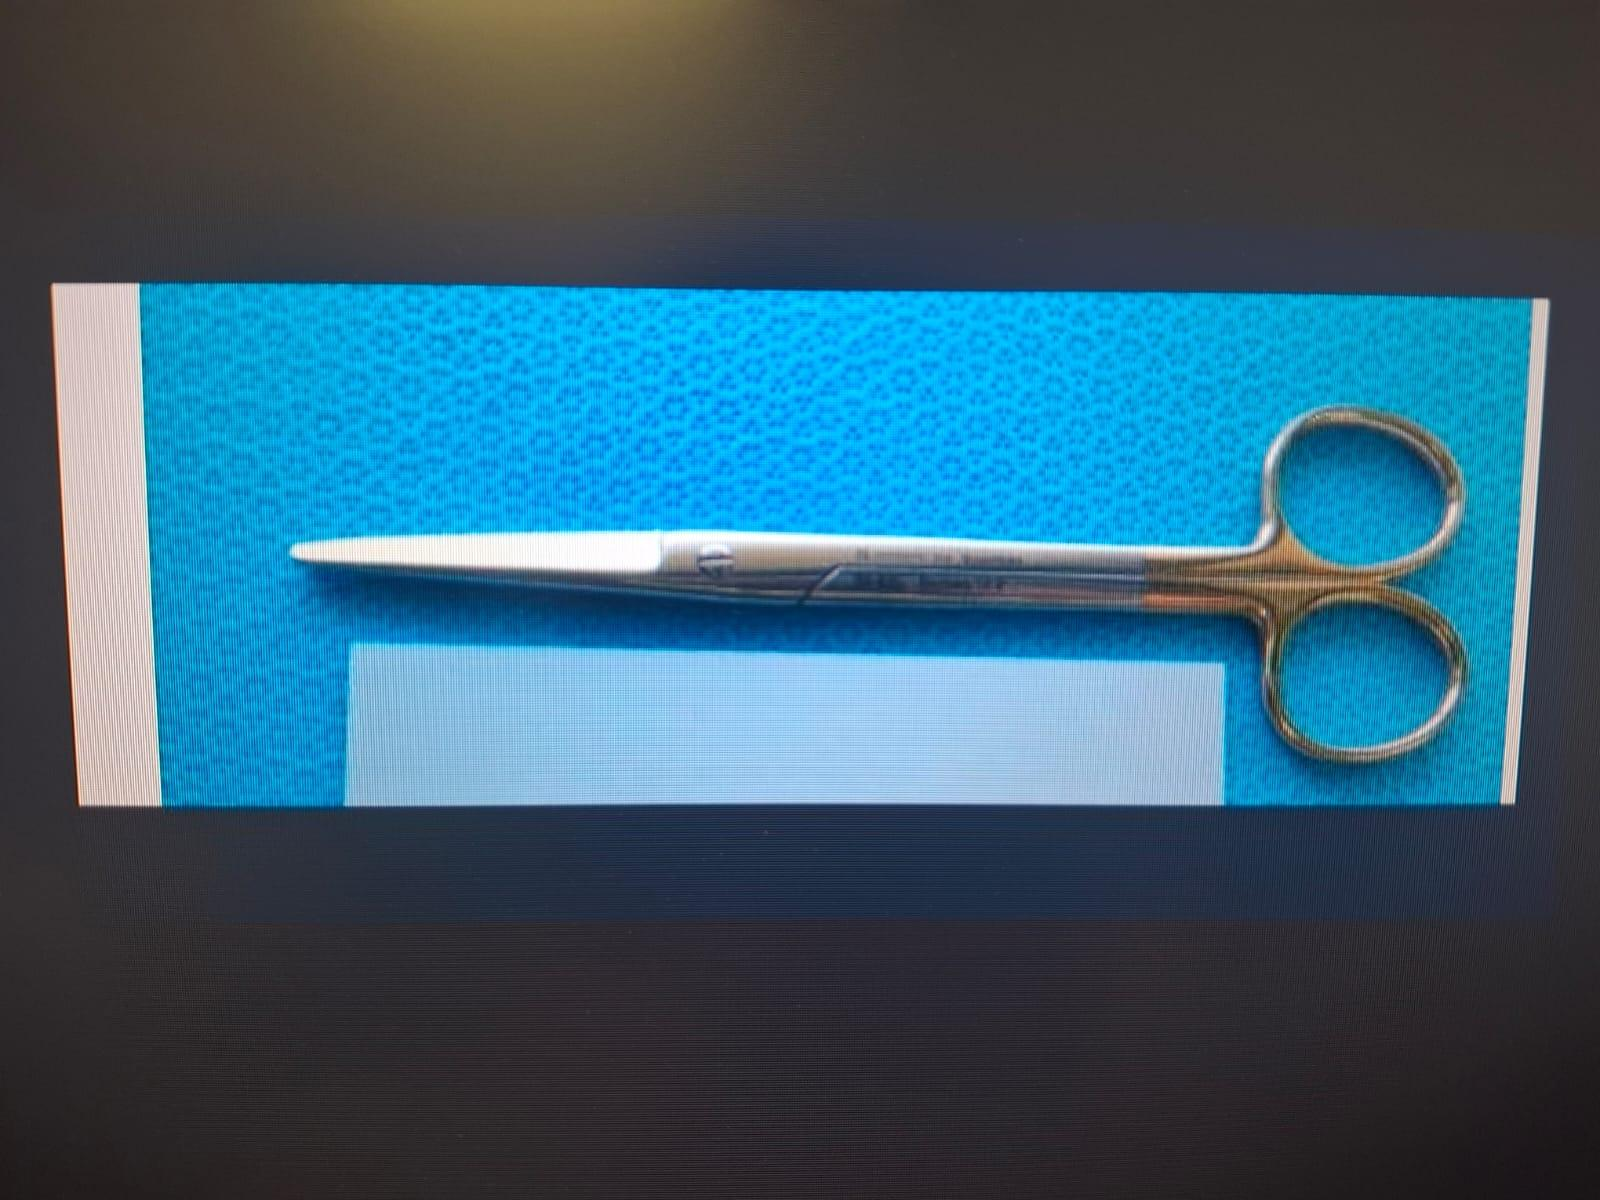Straight Mayo: (274, 394, 1470, 770)
